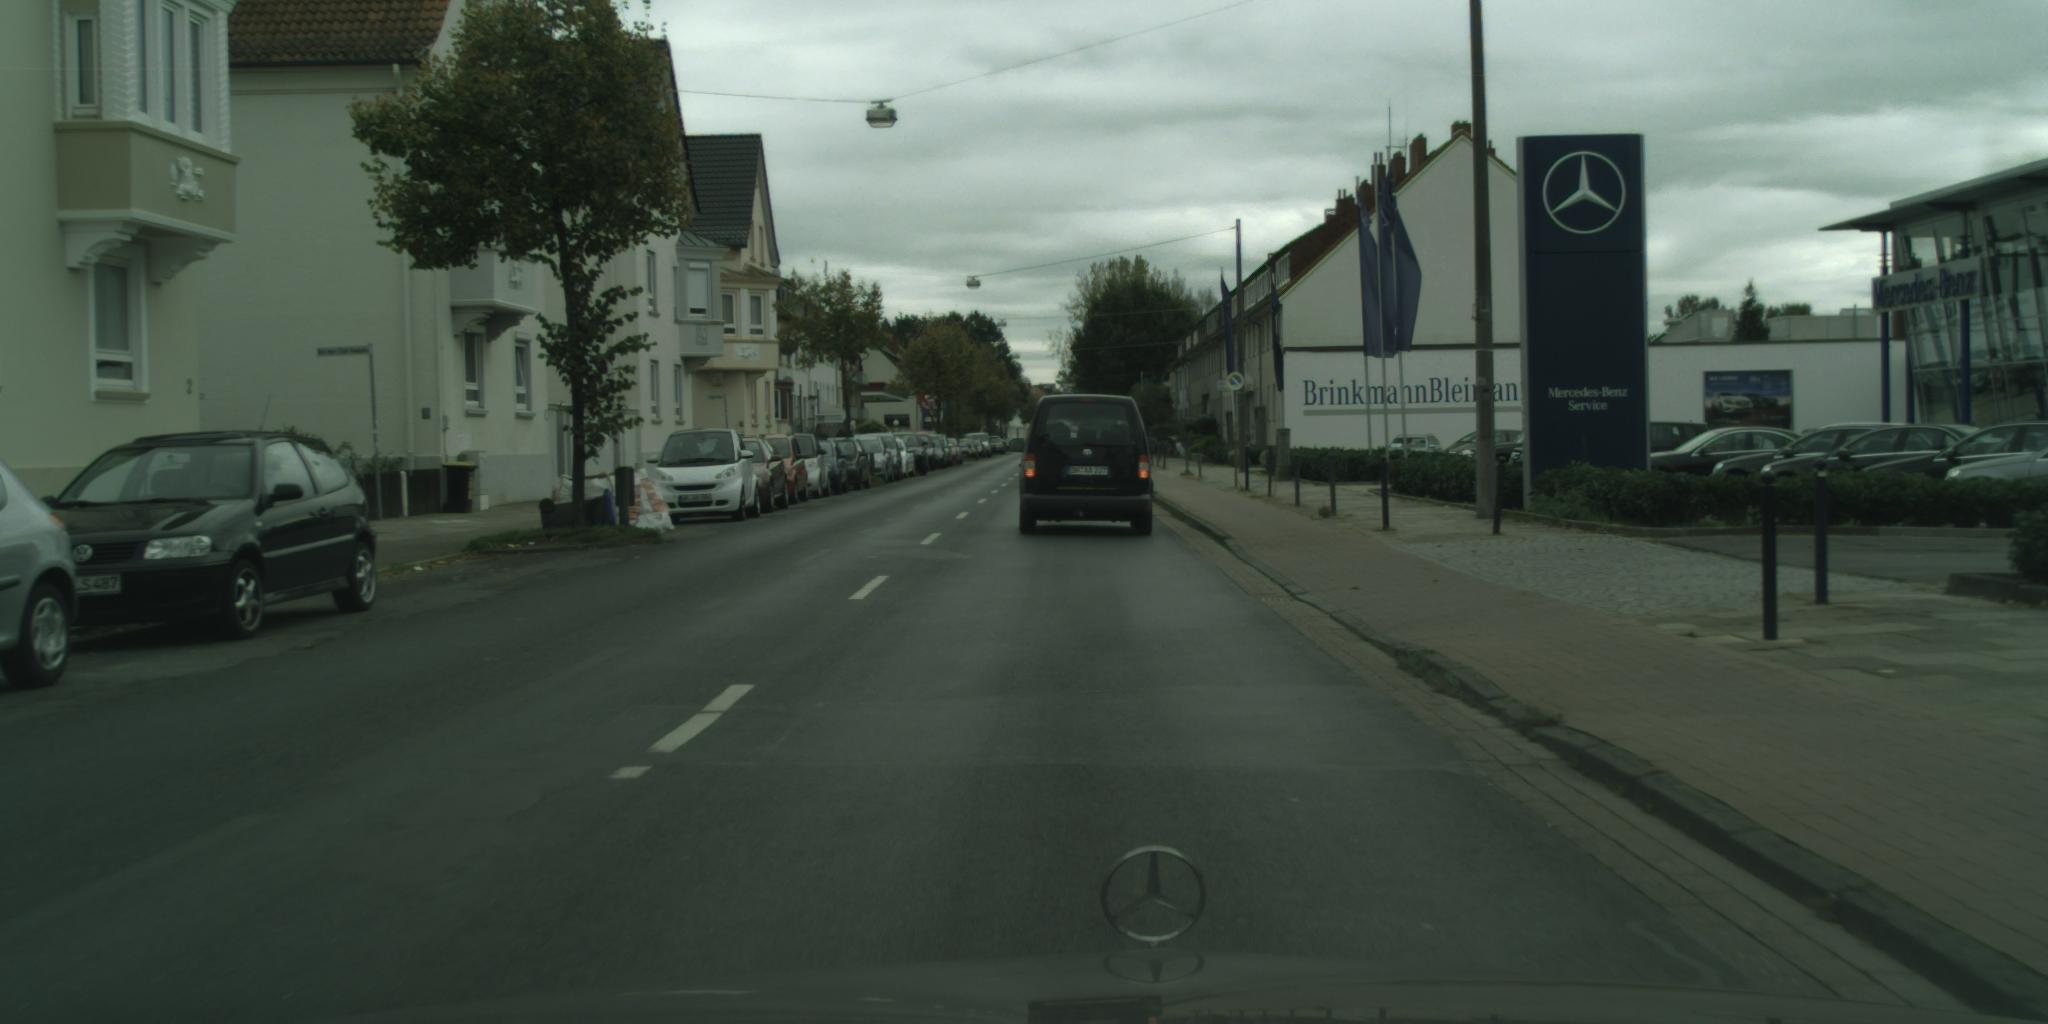car: (14, 431, 379, 644), (1010, 394, 1159, 539), (1, 455, 78, 690), (1846, 422, 2048, 508), (1755, 424, 2006, 488), (1710, 422, 1951, 486), (644, 428, 761, 525), (1644, 427, 1814, 487), (707, 438, 792, 515), (1944, 441, 2048, 492), (1442, 428, 1544, 475), (754, 436, 810, 505), (778, 435, 832, 502), (1640, 423, 1719, 465), (797, 439, 848, 496), (824, 439, 872, 492), (1510, 434, 1548, 474), (1386, 435, 1447, 460)
